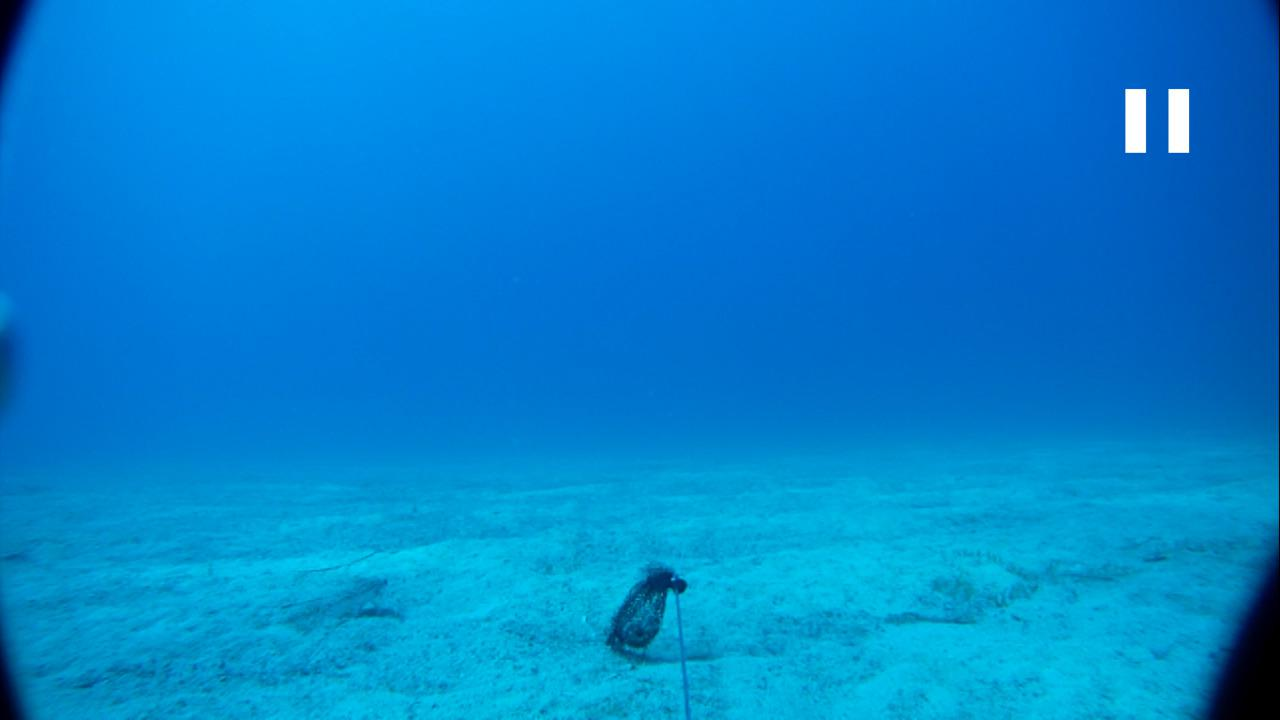dactylopterus: (257, 565, 404, 638)
